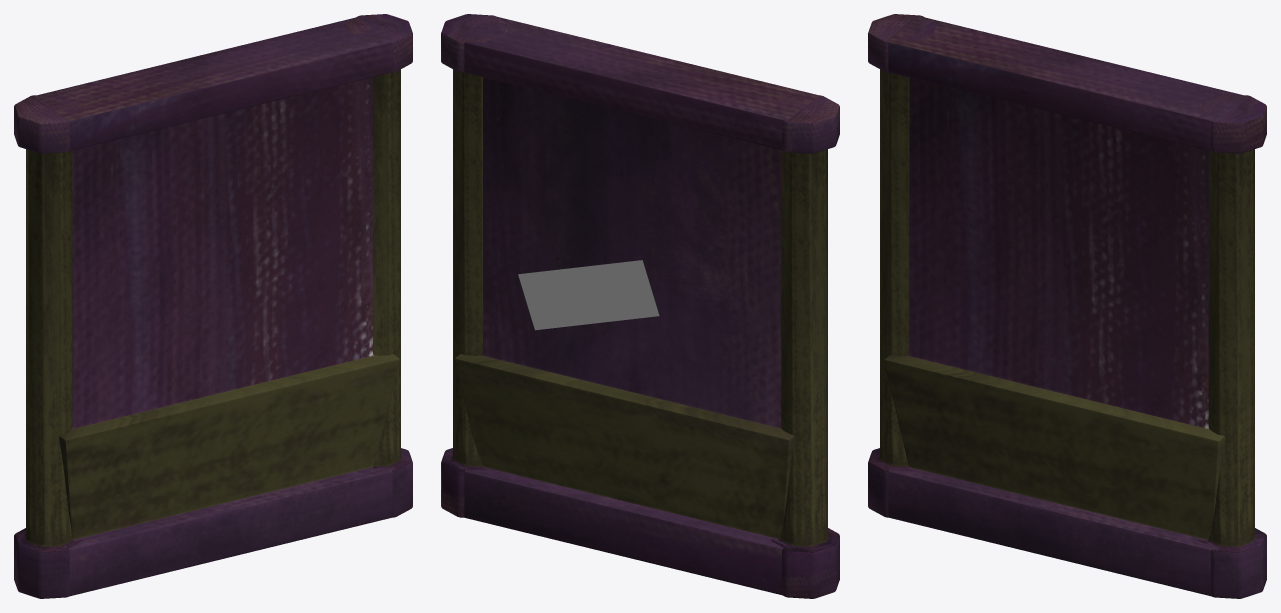
Rendered from MANOR_WALL_2_001.obj.
The picture shows the model from 3 angles, left to right: view 1: azimuth 30°, elevation 25°; view 2: azimuth 150°, elevation 25°; view 3: azimuth 330°, elevation 25°; orthographic projection.
Parts seen in each view (by area): view 1: MANOR_WALL_2_001; view 2: MANOR_WALL_2_001; view 3: MANOR_WALL_2_001.
Boxes of the visible parts, box(x1,y1,x2,y2) form: MANOR_WALL_2_001: box(14, 14, 412, 598); MANOR_WALL_2_001: box(441, 14, 839, 598); MANOR_WALL_2_001: box(868, 14, 1266, 598).
Size of the model in its own units: 2.57 by 3 by 0.4138.
